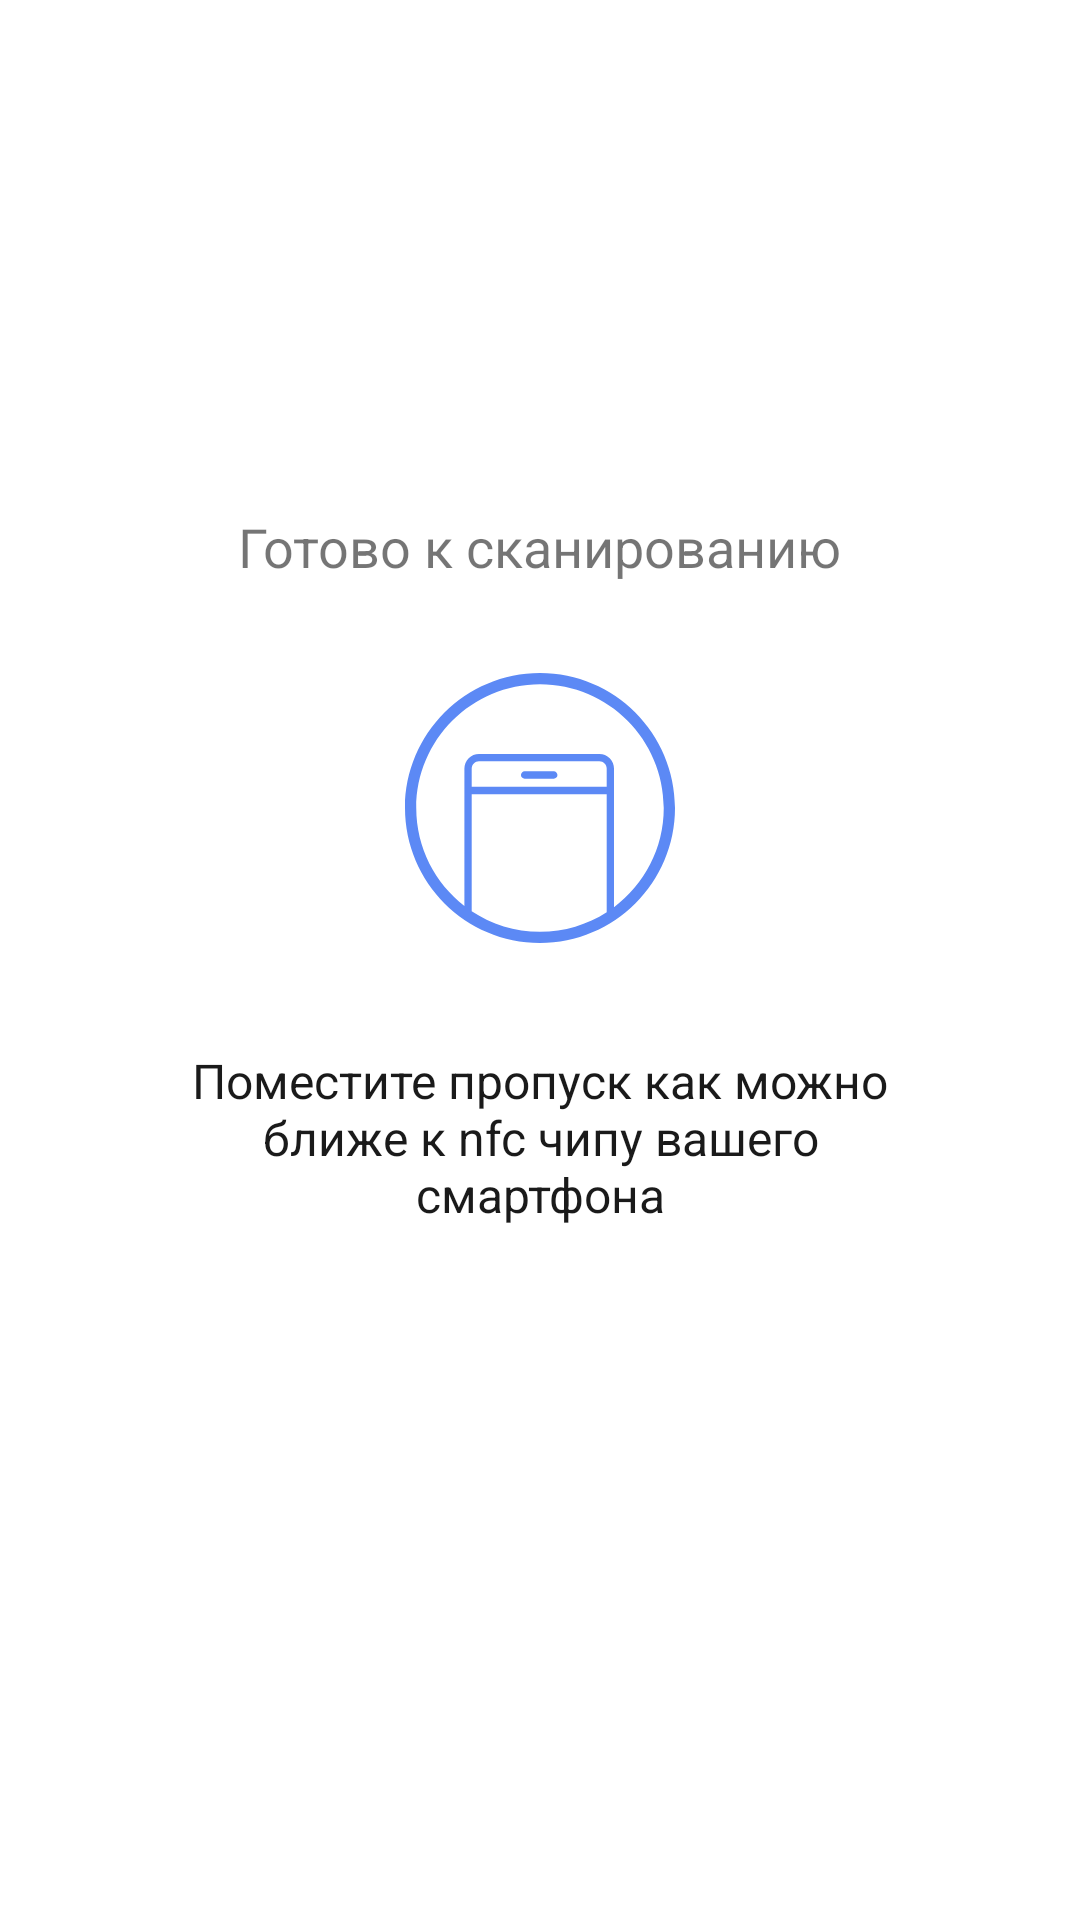

Icon bounding boxes for this 1080px x 1920px phone screenshot, format (x1, y1, x2, y2):
phone unchecked: (405, 673, 675, 943)
